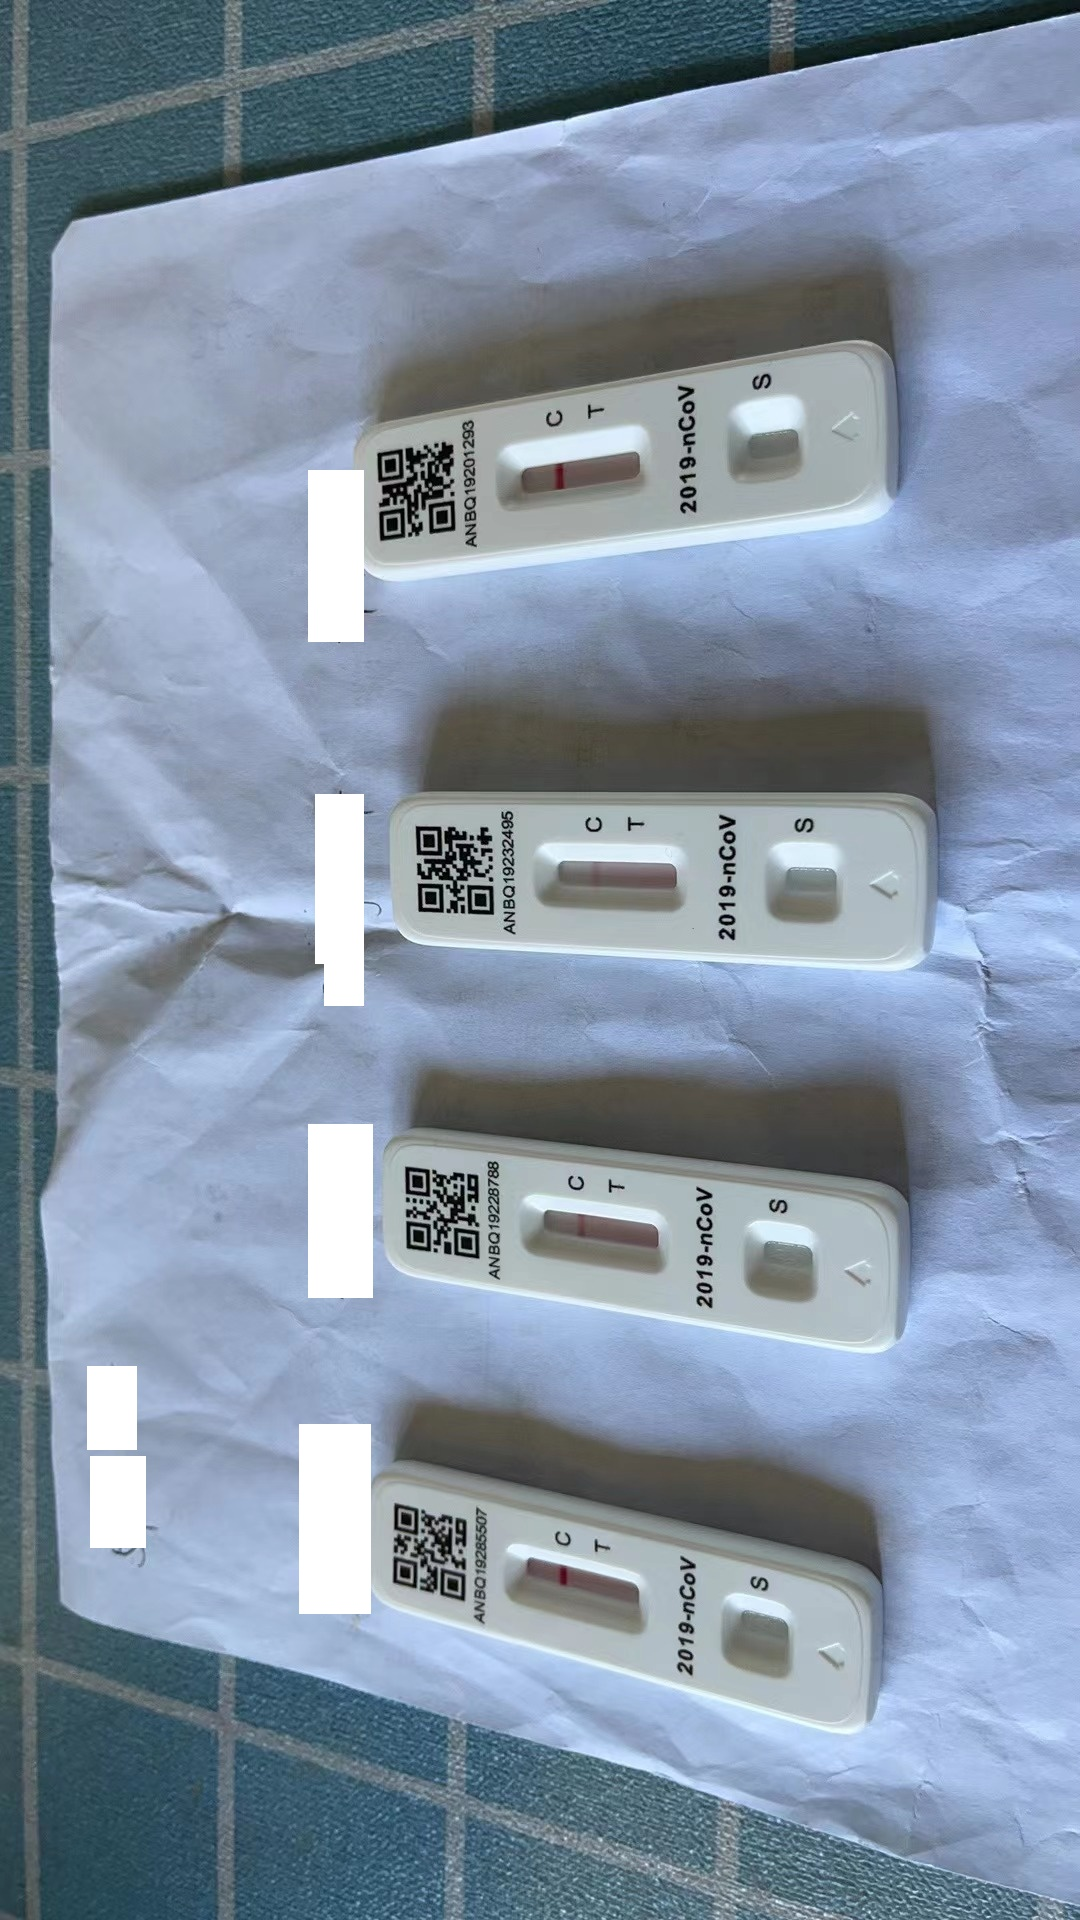negative: (501, 1542, 651, 1639), (517, 1195, 674, 1279), (501, 431, 650, 509), (530, 847, 692, 918)
